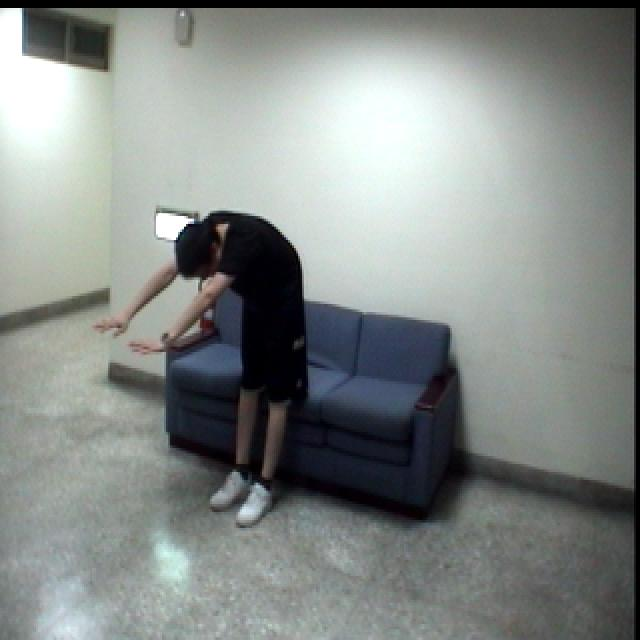bend: (87, 199, 310, 536)
